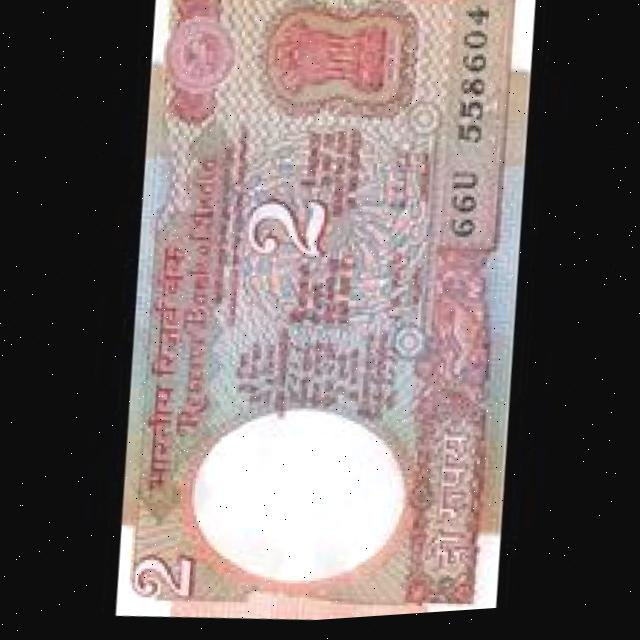banknote: (99, 0, 532, 635)
